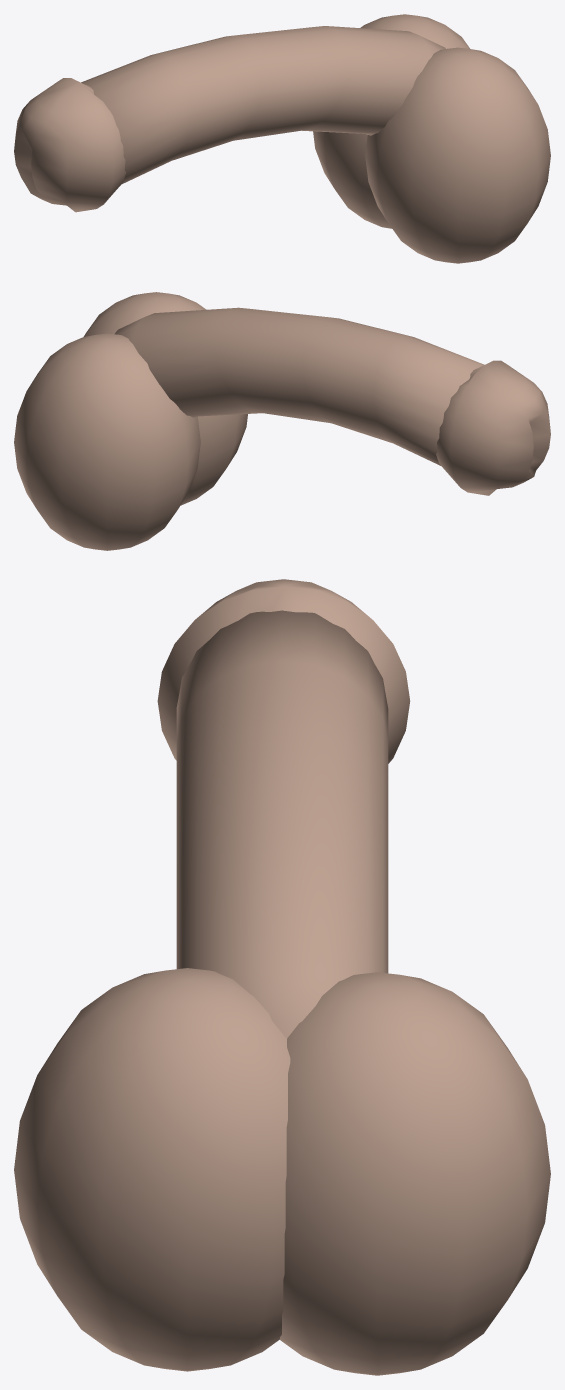
The model's file is TMP_Render.fbx.
The picture shows the model from 3 angles, top to bottom: view 1: azimuth 30°, elevation 25°; view 2: azimuth 150°, elevation 25°; view 3: azimuth 270°, elevation 25°; orthographic projection. The views are drawn at different scales.
Visible parts, largest first — view 1: Mesa estudio.006; view 2: Mesa estudio.006; view 3: Mesa estudio.006.
Boxes of the visible parts, x1=… form: Mesa estudio.006: x1=14, y1=14, x2=550, y2=263; Mesa estudio.006: x1=14, y1=292, x2=550, y2=550; Mesa estudio.006: x1=14, y1=579, x2=550, y2=1375.
Bounding box in the file's own units: 0.565 × 0.2871 × 0.2736.
